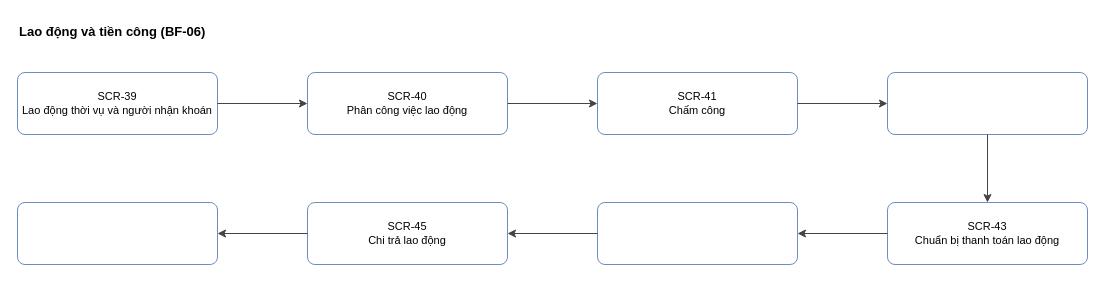
This 1105x282 diagram has some shape labels left out. Each missing label, with the centre of its shape:
SCR-42 Quy tắc lương và đơn giá công nhật: the point at 987,103
SCR-44 Chốt quyết toán lao động: the point at 697,233
SCR-46 Công việc và lương của tôi: the point at 117,233
